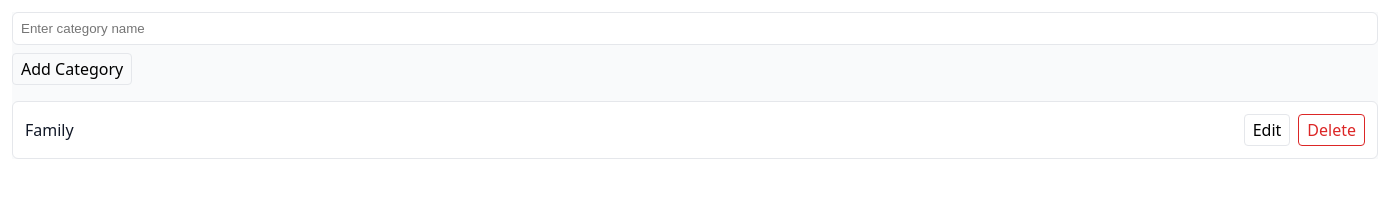
Test case: CategoryManager › validates duplicate category name
Step 1. Type "Family" into the field with placeholder "Enter category name" → {"x": 695, "y": 28}, box [12,12,1378,45]
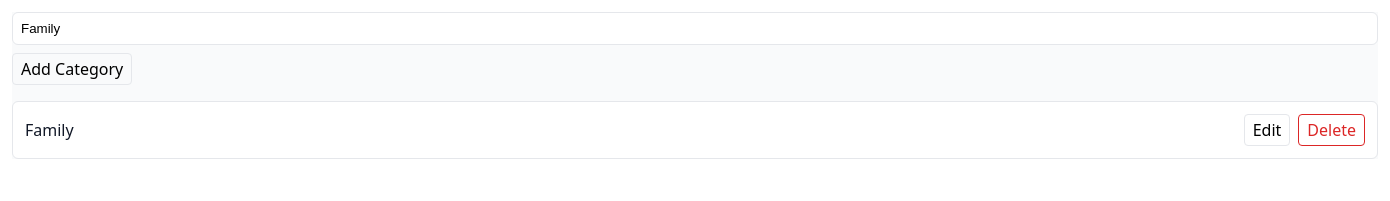
Step 2. Click the button "Add Category" → {"x": 72, "y": 69}, box [12,53,132,85]
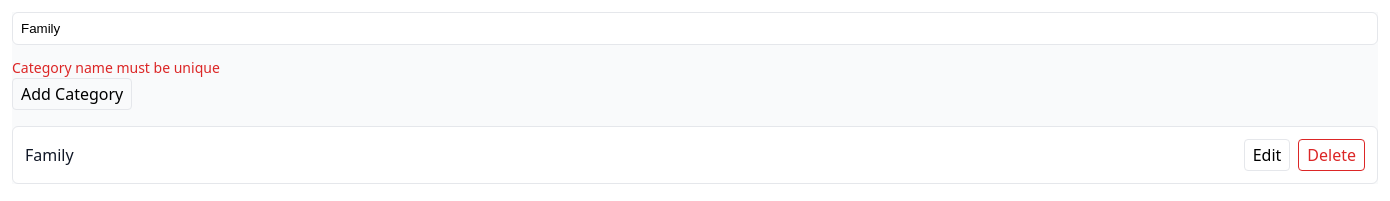
Now the text "Category name must be unique" is shown, box [12,58,220,77]
